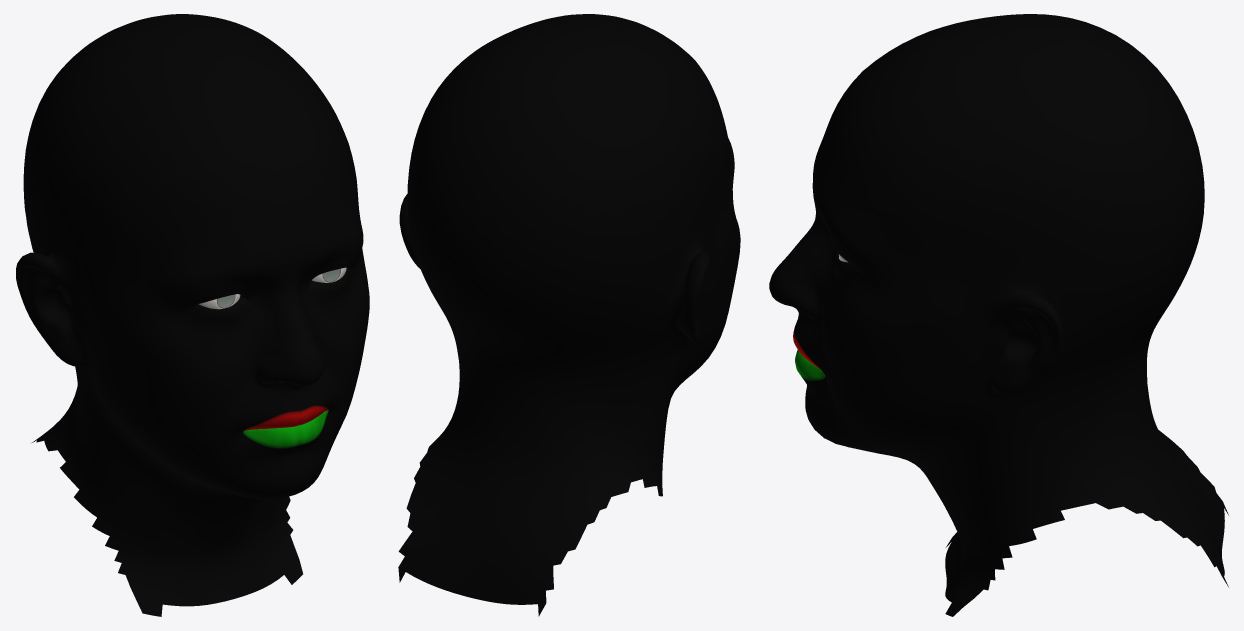
The model's file is @@gnm-neutral.glb.
3 renders of one model, left to right at view 1: azimuth 30°, elevation 25°; view 2: azimuth 150°, elevation 25°; view 3: azimuth 270°, elevation 25°, orthographic. The views are drawn at different scales.
Parts seen in each view (by area): view 1: GNM_Population_Mean_Head; view 2: GNM_Population_Mean_Head; view 3: GNM_Population_Mean_Head.
Boxes of the visible parts, x1,y1,x2,y2 form: GNM_Population_Mean_Head: (16,14,369,616); GNM_Population_Mean_Head: (398,14,740,616); GNM_Population_Mean_Head: (769,14,1228,616).
Size of the model in its own units: 0.1828 by 0.3018 by 0.2276.
